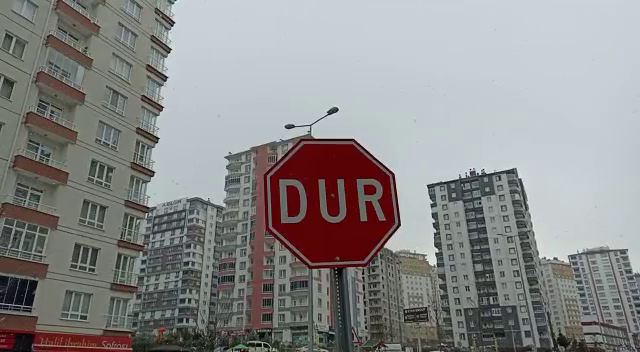stop: (259, 135, 404, 271)
